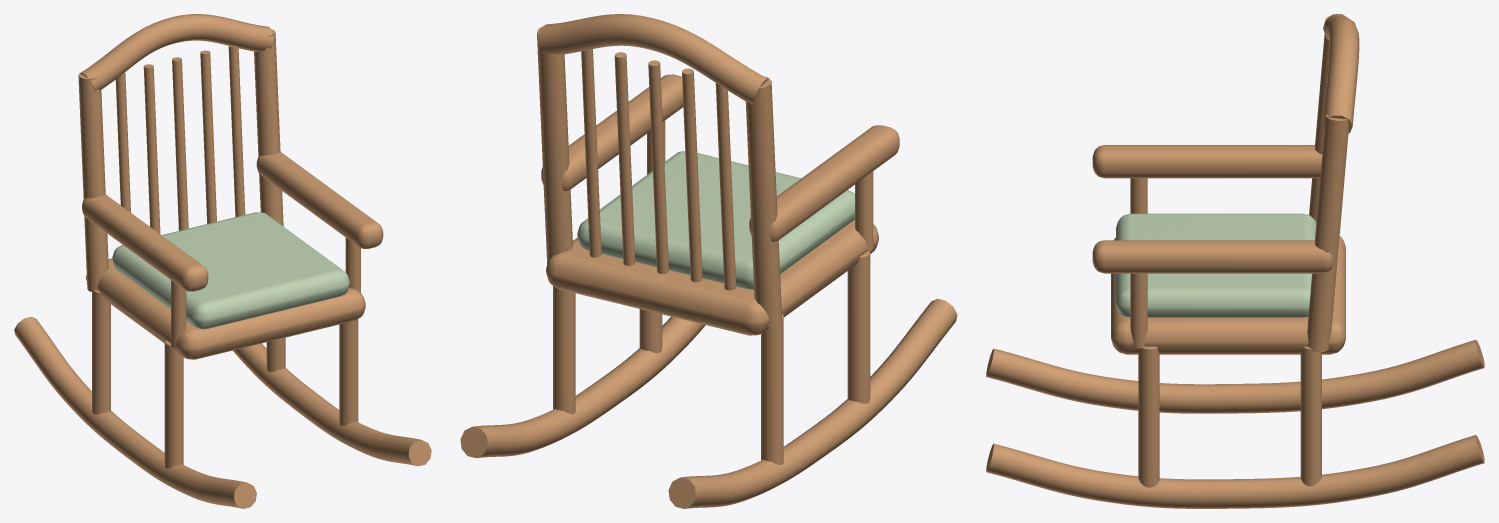
The model's file is chairRockingOak.glb.
3 views of the same model, side by side, from view 1: azimuth 30°, elevation 25°; view 2: azimuth 150°, elevation 25°; view 3: azimuth 270°, elevation 25° (orthographic). The views are drawn at different scales.
Visible parts, largest first — view 1: Soft sage seat pad, Oak rocker seat, Curved rocking runner, Curved rocking runner.001, Rocker crest, Rocking chair armrest, Rocking chair armrest.001, Rocker back side, Rocker back side.001, Rocker seat support, Rocker seat support.001, Rocker seat support.002 (+8 smaller); view 2: Soft sage seat pad, Oak rocker seat, Curved rocking runner, Curved rocking runner.001, Rocker crest, Rocker back side, Rocking chair armrest, Rocker back side.001, Rocking chair armrest.001, Rocker seat support, Rocker seat support.001, Rocker seat support.003 (+7 smaller); view 3: Curved rocking runner.001, Curved rocking runner, Soft sage seat pad, Oak rocker seat, Rocking chair armrest.001, Rocking chair armrest, Rocker back side.001, Rocker crest, Rocker seat support.002, Rocker seat support.003, Armrest post.001, Rocker back side (+1 smaller).
Part boxes in pixels (box(x1,y1,x2,y2)): Soft sage seat pad: box(112, 212, 349, 329); Oak rocker seat: box(86, 258, 365, 359); Curved rocking runner: box(14, 316, 256, 508); Curved rocking runner.001: box(233, 343, 431, 466); Rocker crest: box(79, 14, 273, 91); Rocking chair armrest: box(82, 194, 208, 291); Rocking chair armrest.001: box(256, 152, 383, 248); Rocker back side: box(78, 74, 108, 292); Rocker back side.001: box(254, 29, 283, 226); Rocker seat support: box(164, 340, 183, 468); Rocker seat support.001: box(92, 290, 110, 414); Rocker seat support.002: box(339, 319, 358, 425); Soft sage seat pad: box(577, 151, 854, 289); Oak rocker seat: box(546, 219, 878, 335); Curved rocking runner: box(668, 298, 957, 508); Curved rocking runner.001: box(460, 316, 705, 458); Rocker crest: box(537, 14, 768, 104); Rocker back side: box(745, 76, 781, 327); Rocking chair armrest: box(749, 125, 899, 241); Rocker back side.001: box(537, 27, 572, 264); Rocking chair armrest.001: box(541, 74, 683, 191); Rocker seat support: box(847, 251, 870, 403); Rocker seat support.001: box(761, 314, 783, 464); Rocker seat support.003: box(553, 286, 575, 414); Curved rocking runner.001: box(986, 435, 1484, 508); Curved rocking runner: box(986, 339, 1484, 413); Soft sage seat pad: box(1116, 213, 1316, 317); Oak rocker seat: box(1111, 236, 1345, 354); Rocking chair armrest.001: box(1092, 240, 1333, 273); Rocking chair armrest: box(1092, 145, 1322, 178); Rocker back side.001: box(1307, 114, 1348, 352); Rocker crest: box(1323, 14, 1359, 133); Rocker seat support.002: box(1138, 346, 1159, 487); Rocker seat support.003: box(1300, 346, 1321, 486); Armrest post.001: box(1130, 273, 1147, 348); Rocker back side: box(1309, 15, 1330, 222).
Size of the model in its own units: 0.78 by 1.43 by 1.51.
